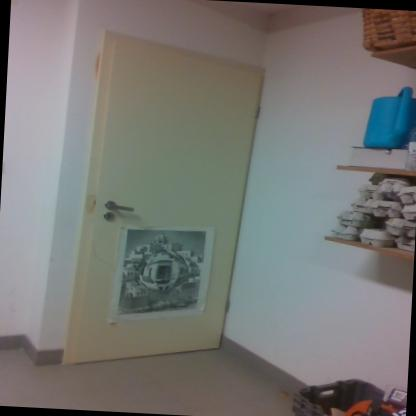closed: (69, 40, 280, 362)
